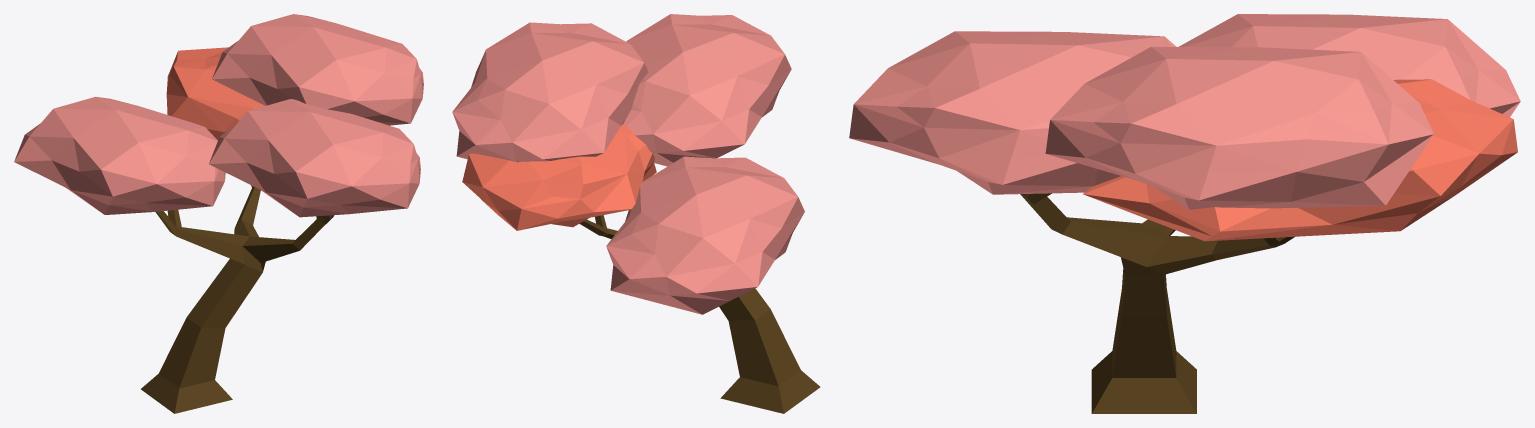
File: tree.glb
3 views of the same model, side by side, from view 1: azimuth 30°, elevation 25°; view 2: azimuth 150°, elevation 25°; view 3: azimuth 270°, elevation 25° (orthographic). The views are drawn at different scales.
Parts seen in each view (by area): view 1: Icosphere.016, Icosphere.018, Icosphere.017, Cube.001, Icosphere.010; view 2: Icosphere.018, Icosphere.017, Icosphere.016, Icosphere.010, Cube.001; view 3: Icosphere.017, Icosphere.016, Icosphere.010, Cube.001, Icosphere.018.
Part boxes in pixels (x1,y1,x2,y2): Icosphere.016: (209, 99, 420, 217); Icosphere.018: (14, 96, 225, 214); Icosphere.017: (212, 14, 423, 125); Cube.001: (141, 185, 334, 413); Icosphere.010: (166, 47, 264, 139); Icosphere.018: (606, 156, 804, 314); Icosphere.017: (452, 22, 648, 162); Icosphere.016: (624, 14, 791, 166); Icosphere.010: (462, 123, 656, 230); Cube.001: (579, 215, 820, 413); Icosphere.017: (1045, 46, 1433, 209); Icosphere.016: (849, 31, 1176, 194); Icosphere.010: (1083, 79, 1517, 241); Cube.001: (1020, 193, 1294, 413); Icosphere.018: (1178, 14, 1520, 117).
Bounding box in the file's own units: 11.39 × 9.62 × 12.77.
